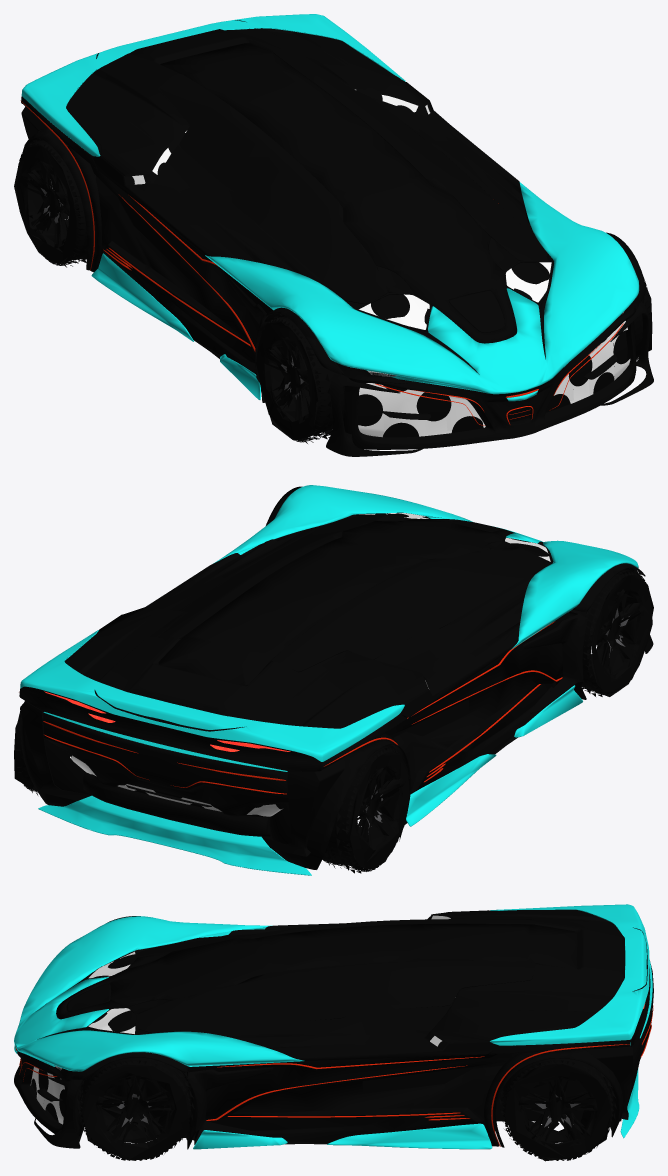
Rendered from traffic-hyper.glb.
The picture shows the model from 3 angles, top to bottom: view 1: azimuth 30°, elevation 25°; view 2: azimuth 150°, elevation 25°; view 3: azimuth 270°, elevation 25°; orthographic projection. The views are drawn at different scales.
Parts seen in each view (by area): view 1: Body, wheel-front-right-mesh, wheel-rear-right-mesh; view 2: Body, wheel-rear-right-mesh, wheel-front-right-mesh, wheel-rear-left-mesh; view 3: Body, wheel-front-left-mesh, wheel-rear-left-mesh.
Boxes of the visible parts, bbox=[...] form: Body: bbox=[20, 14, 653, 456]; wheel-front-right-mesh: bbox=[256, 314, 344, 443]; wheel-rear-right-mesh: bbox=[14, 138, 95, 267]; Body: bbox=[19, 485, 653, 875]; wheel-rear-right-mesh: bbox=[322, 745, 410, 873]; wheel-front-right-mesh: bbox=[581, 568, 653, 696]; wheel-rear-left-mesh: bbox=[14, 701, 37, 795]; Body: bbox=[14, 904, 653, 1149]; wheel-front-left-mesh: bbox=[76, 1057, 194, 1160]; wheel-rear-left-mesh: bbox=[499, 1058, 616, 1161].
Bounding box in the file's own units: 1.53 × 0.7377 × 2.8.
10 materials, 3 textured.
